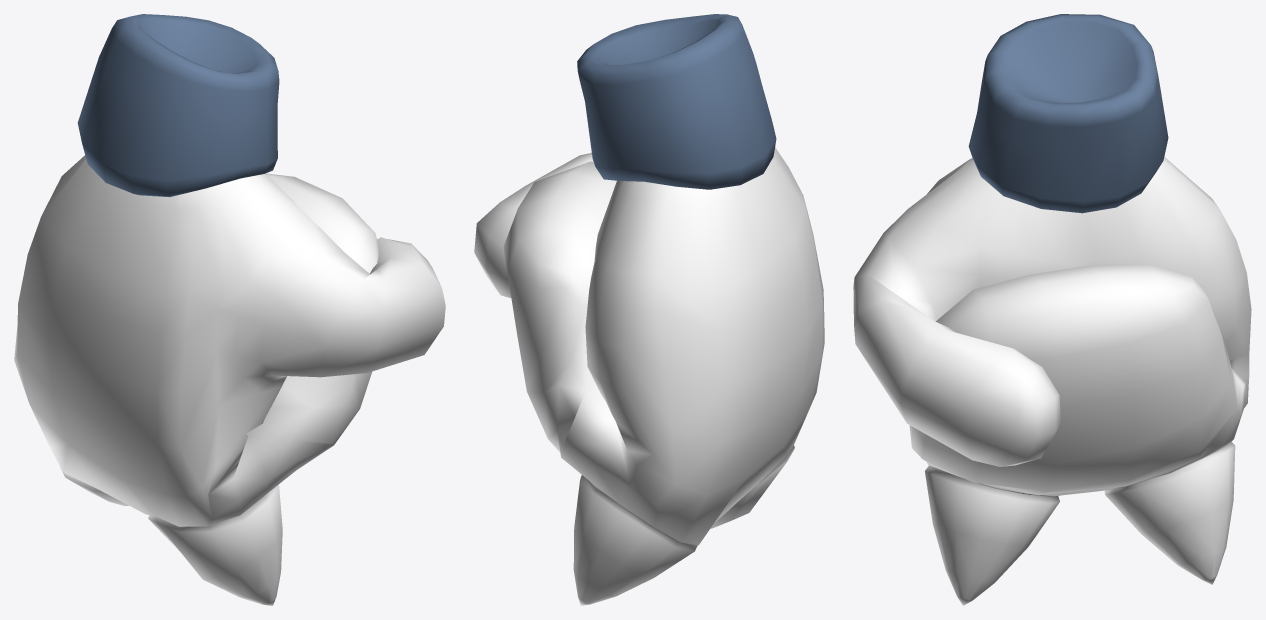
The model's file is Gloves_Knuckle.fbx.
The picture shows the model from 3 angles, left to right: view 1: azimuth 30°, elevation 25°; view 2: azimuth 150°, elevation 25°; view 3: azimuth 270°, elevation 25°; orthographic projection.
Visible parts, largest first — view 1: Gloves_Knuckles.001; view 2: Gloves_Knuckles.001; view 3: Gloves_Knuckles.001.
Boxes of the visible parts, box(x1,y1,x2,y2) form: Gloves_Knuckles.001: box(14, 14, 445, 605); Gloves_Knuckles.001: box(474, 14, 824, 605); Gloves_Knuckles.001: box(853, 14, 1251, 605).
Bounding box in the file's own units: 27.57 × 43.38 × 28.26.
